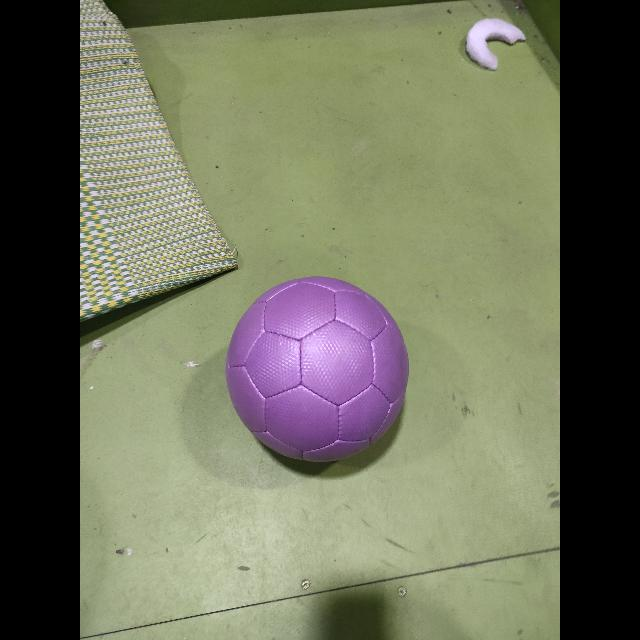P: (226, 277, 408, 461)
